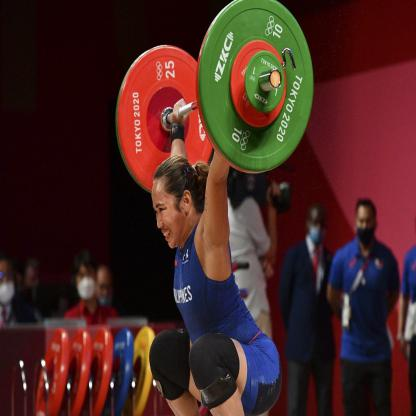Barbell: (189, 0, 318, 180)
